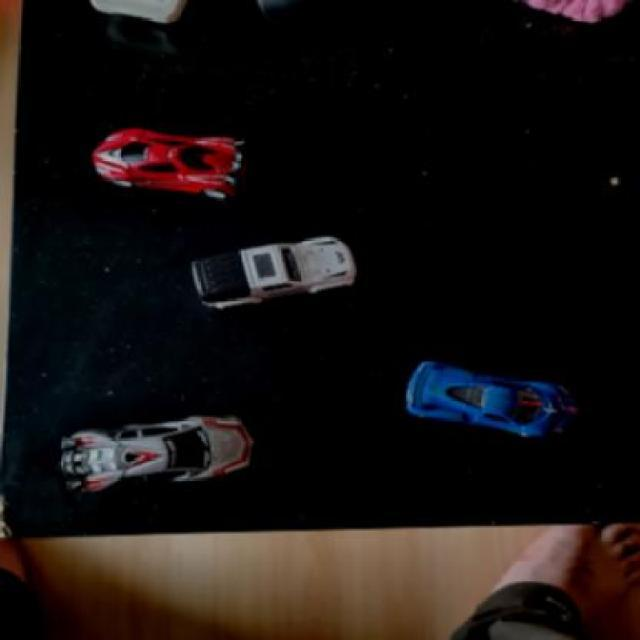car: (42, 408, 276, 497), (393, 353, 592, 447), (163, 229, 380, 314), (89, 127, 262, 204)
